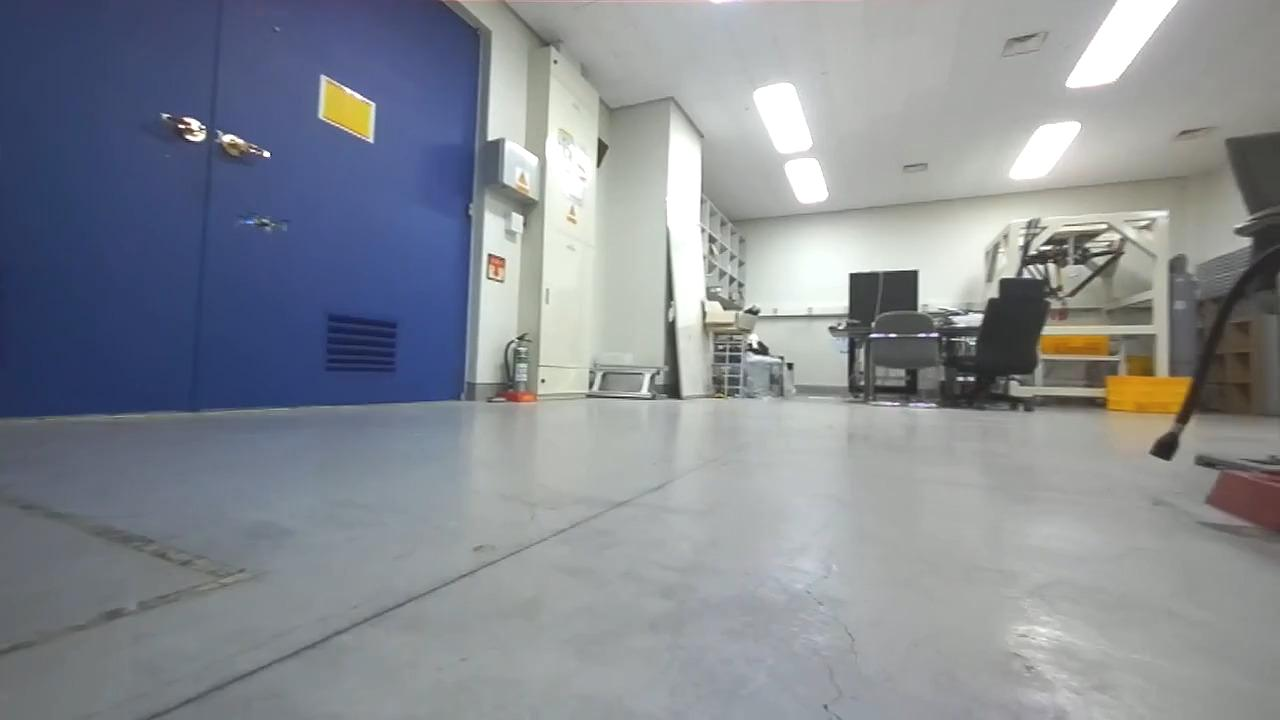crazyflie: (229, 208, 294, 238)
